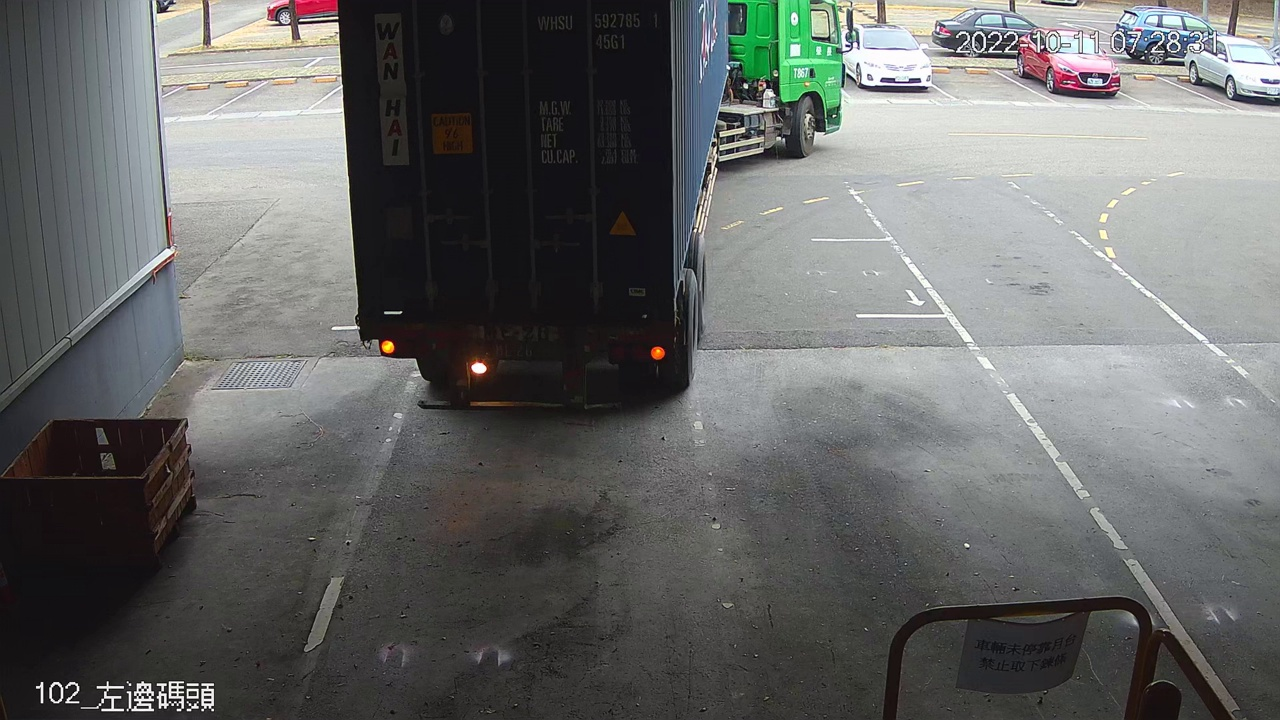container: (531, 9, 664, 54)
